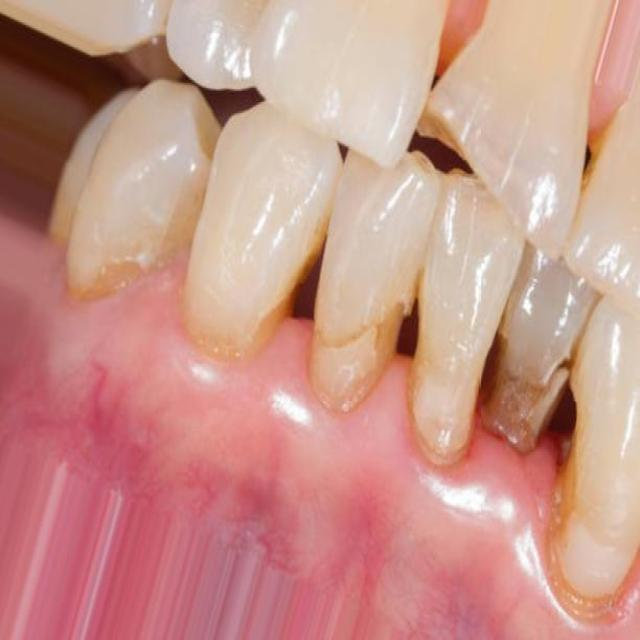caries: (308, 271, 430, 429), (472, 311, 578, 471), (77, 234, 139, 332), (542, 466, 589, 556)
